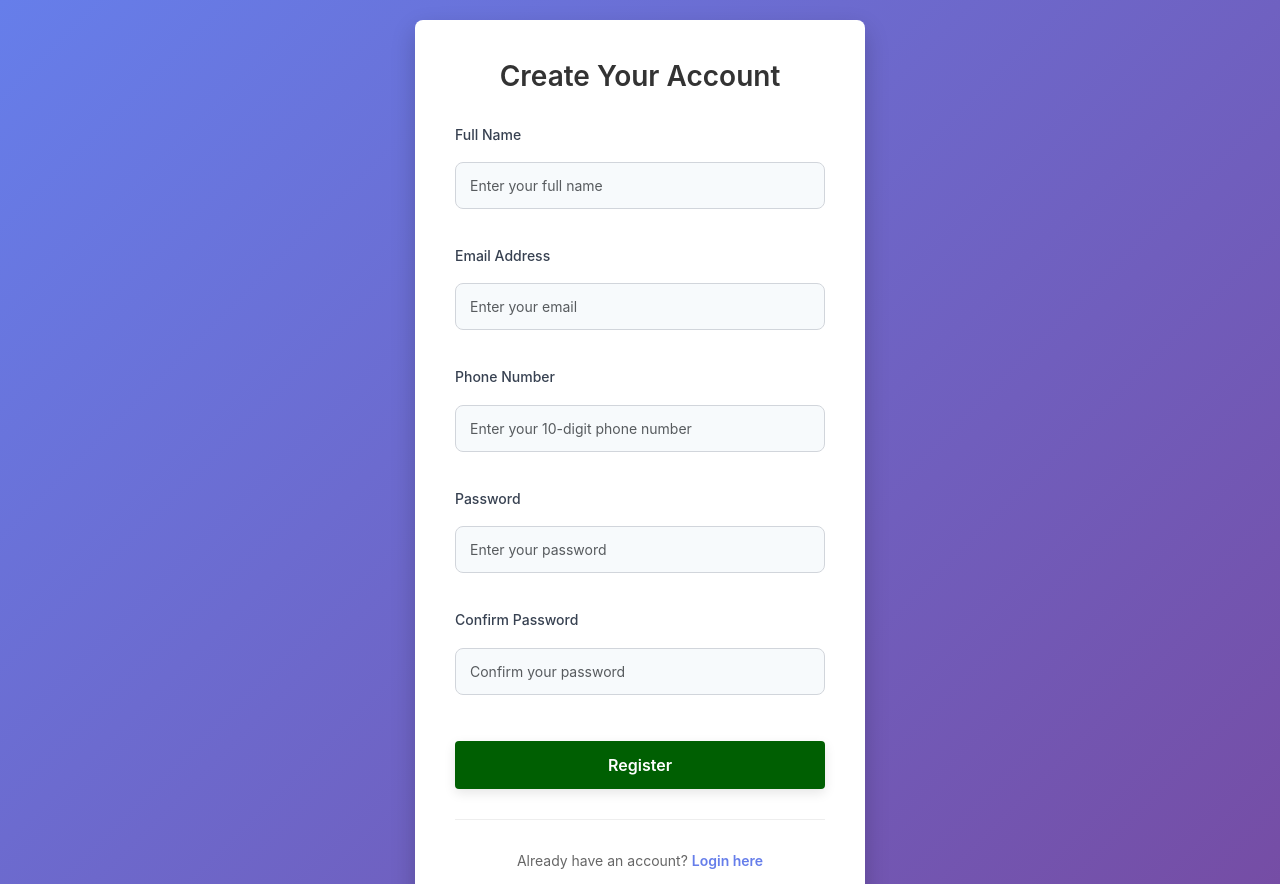
Test: Register Component › shows validation errors for empty fields on submit
Click the button "Register". click: (640, 764)
box: [455,740,825,788]
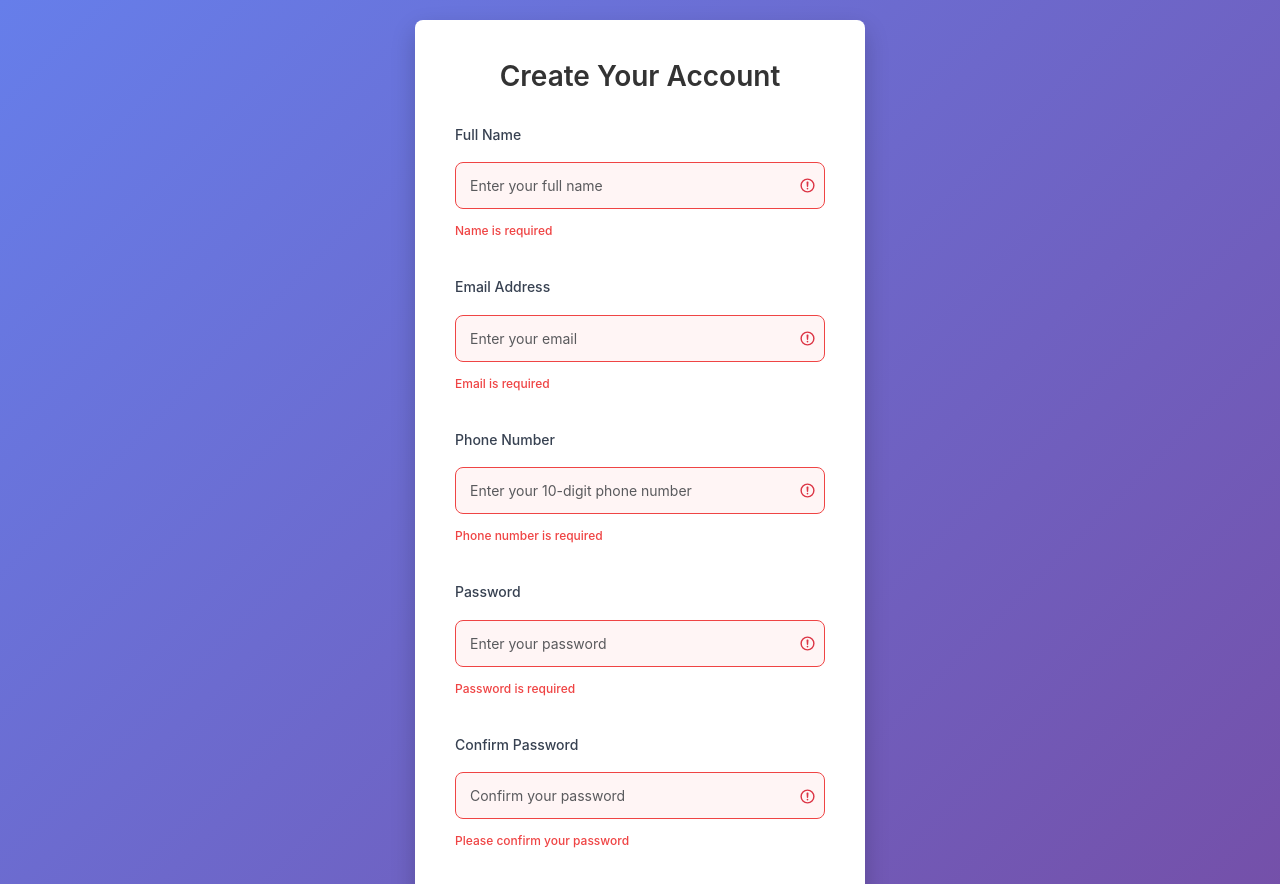
Check: the text "Name is required" is shown, box [455,223,552,238]
Check: the text "Email is required" is shown, box [455,376,550,391]
Check: the text "Phone number is required" is shown, box [455,528,603,543]
